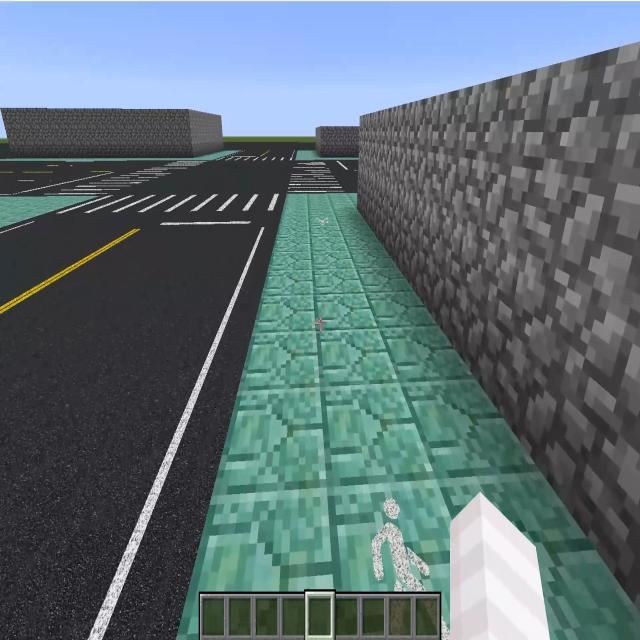crosswalk: (53, 188, 287, 223), (30, 164, 190, 194), (286, 159, 350, 192), (218, 154, 295, 161), (161, 162, 200, 171)
road: (4, 224, 274, 637), (154, 164, 288, 189), (0, 165, 111, 193), (337, 162, 355, 187)
sidewalk: (178, 194, 639, 639), (0, 196, 94, 228), (0, 150, 237, 162), (49, 151, 237, 162), (296, 150, 357, 161)
